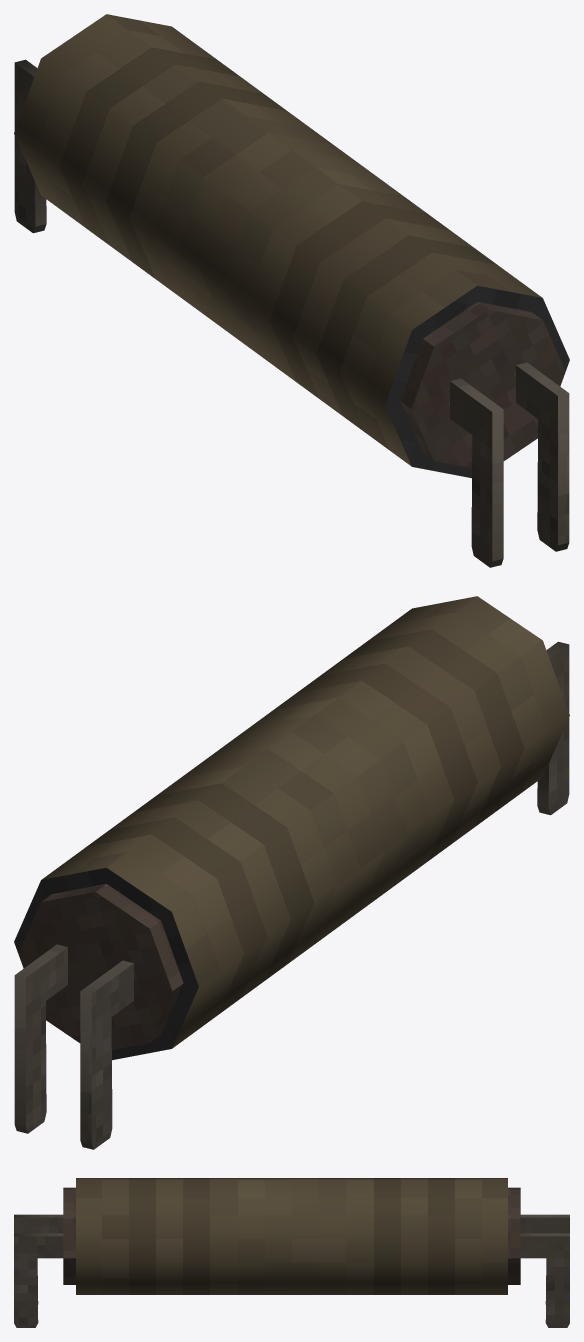
File: capacitor_etx_5_1.glb
3 renders of one model, top to bottom at view 1: azimuth 30°, elevation 25°; view 2: azimuth 150°, elevation 25°; view 3: azimuth 270°, elevation 25°, orthographic. The views are drawn at different scales.
Visible parts, largest first — view 1: capacitor_etx_5_1; view 2: capacitor_etx_5_1; view 3: capacitor_etx_5_1.
Boxes of the visible parts, left/top/right/bottom form: capacitor_etx_5_1: left=14, top=14, right=569, bottom=567; capacitor_etx_5_1: left=14, top=596, right=569, bottom=1149; capacitor_etx_5_1: left=14, top=1178, right=569, bottom=1327.
Size of the model in its own units: 0.0432 by 0.0525 by 0.1932.
1 material, 1 textured.
